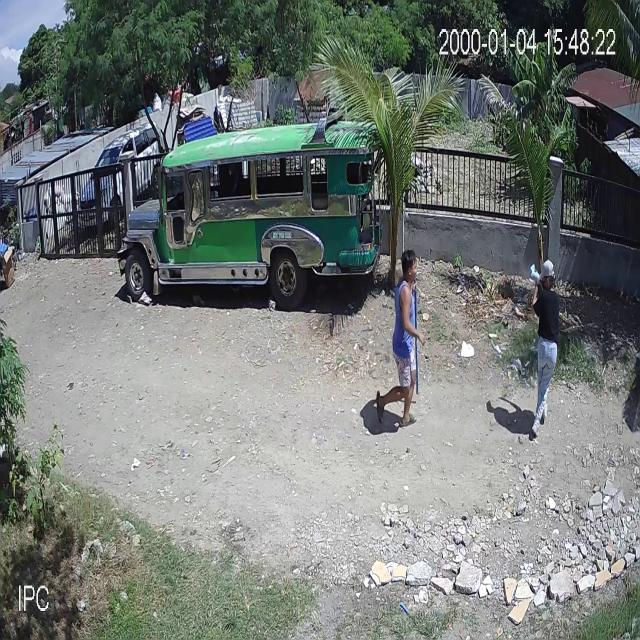running: (376, 250, 426, 427), (530, 259, 558, 440)
